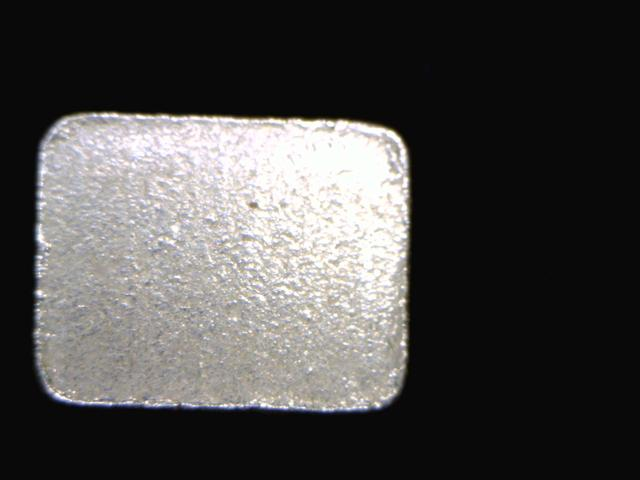ok: (27, 106, 411, 425)
